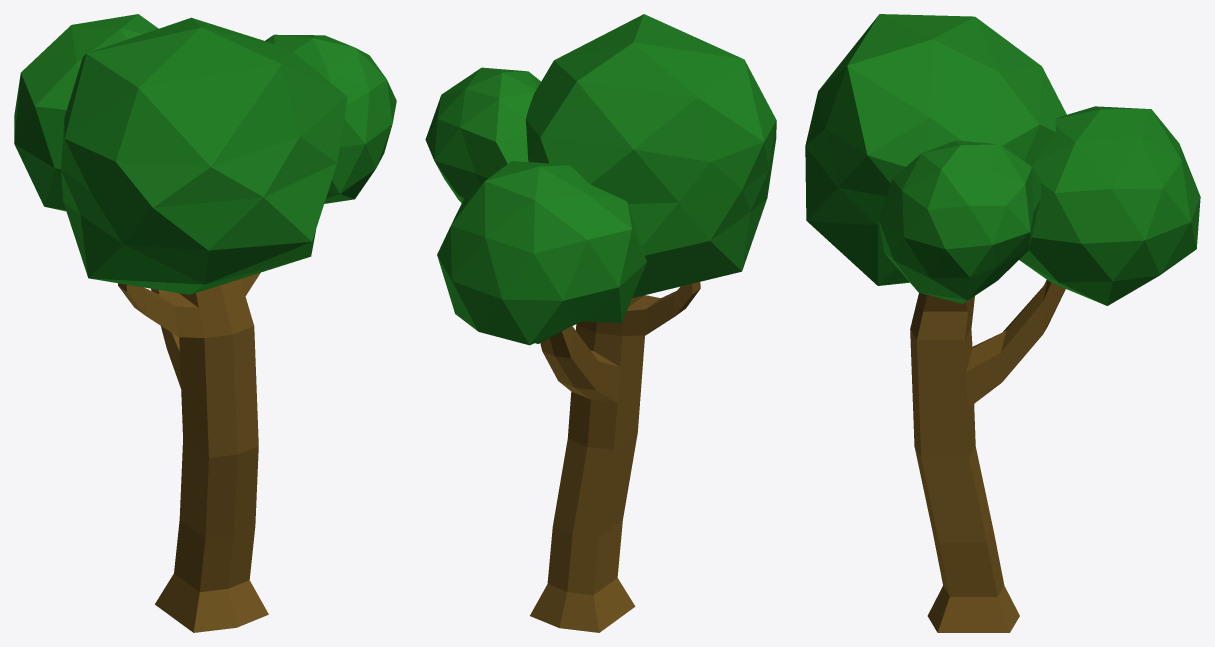
File: forest_tree_2.fbx
The picture shows the model from 3 angles, left to right: view 1: azimuth 30°, elevation 25°; view 2: azimuth 150°, elevation 25°; view 3: azimuth 270°, elevation 25°; orthographic projection. The views are drawn at different scales.
Visible parts, largest first — view 1: Icosphere.051; view 2: Icosphere.051; view 3: Icosphere.051.
Boxes of the visible parts, <box> form: Icosphere.051: <box>14,14,396,632</box>; Icosphere.051: <box>425,14,776,632</box>; Icosphere.051: <box>805,14,1200,632</box>.
Size of the model in its own units: 1192 by 2023 by 1290.
